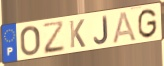A: (112, 10, 138, 45)
G: (137, 7, 158, 40)
J: (93, 14, 109, 45)
K: (68, 18, 87, 50)
O: (19, 25, 41, 58)
Z: (41, 19, 67, 56)
